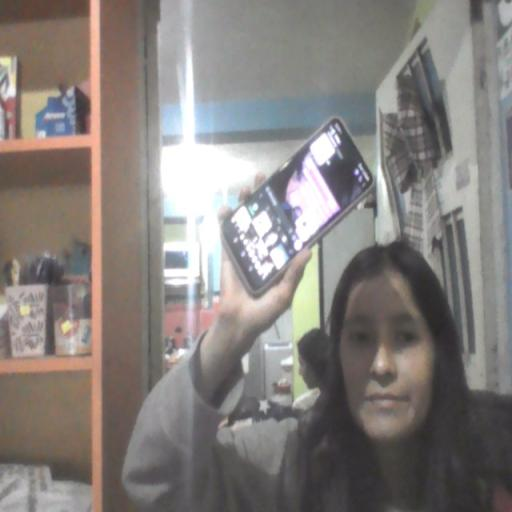phone: (216, 115, 378, 299)
